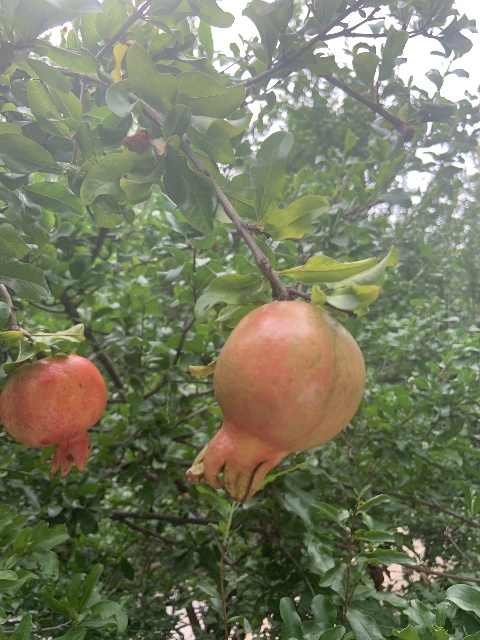ripe: (187, 300, 365, 503), (0, 354, 107, 478)
